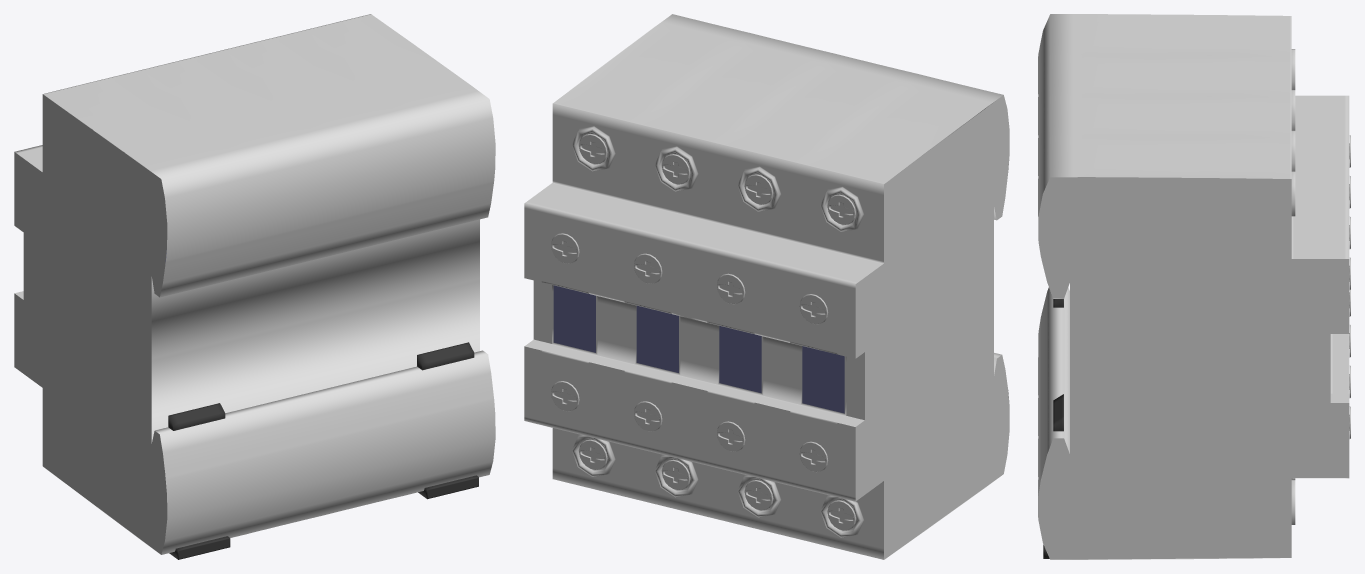
Rendered from contactor.fbx.
3 views of the same model, side by side, from view 1: azimuth 30°, elevation 25°; view 2: azimuth 150°, elevation 25°; view 3: azimuth 270°, elevation 25° (orthographic).
Parts seen in each view (by area): view 1: cont-body, cont-lock; view 2: cont-body, cont-bolt; view 3: cont-body, cont-lock, cont-bolt.
Boxes of the visible parts, left/top/right/bottom form: cont-body: left=14, top=14, right=495, bottom=554; cont-lock: left=168, top=342, right=478, bottom=559; cont-body: left=524, top=14, right=1009, bottom=559; cont-bolt: left=551, top=134, right=855, bottom=530; cont-body: left=1038, top=14, right=1349, bottom=559; cont-lock: left=1043, top=299, right=1063, bottom=558; cont-bolt: left=1349, top=135, right=1350, bottom=438.
Size of the model in its own units: 0.1156 by 0.1285 by 0.0937.
